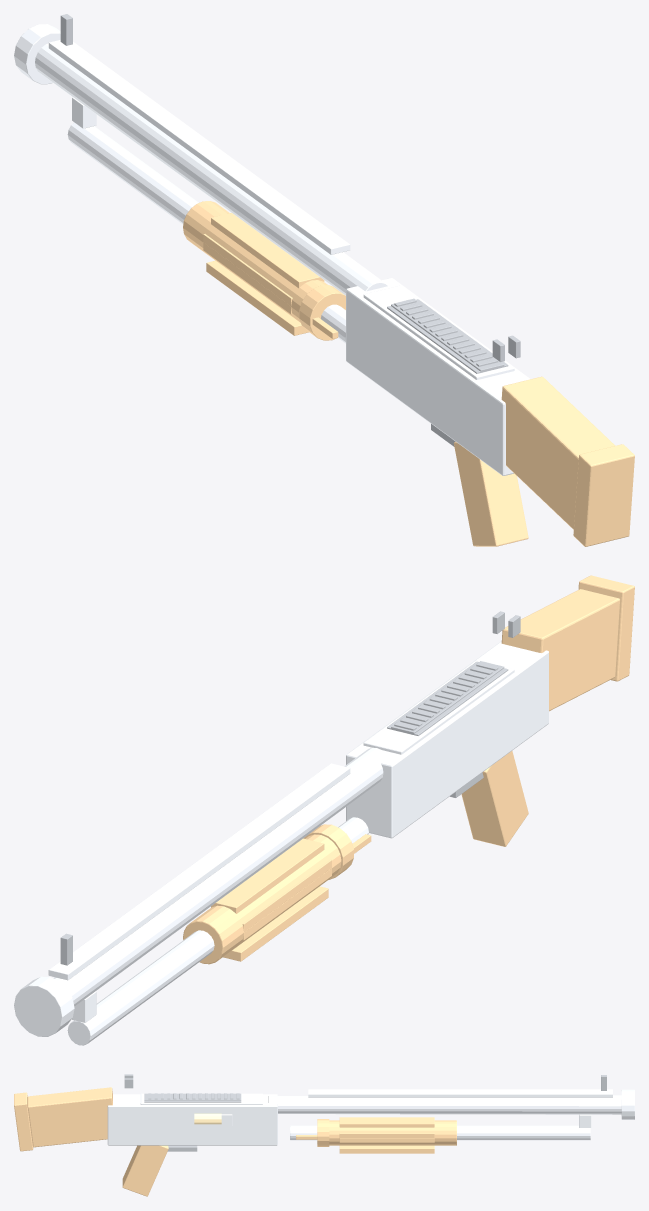
File: rem870.glb
The picture shows the model from 3 angles, top to bottom: view 1: azimuth 30°, elevation 25°; view 2: azimuth 150°, elevation 25°; view 3: azimuth 270°, elevation 25°; orthographic projection. The views are drawn at different scales.
Parts seen in each view (by area): view 1: BarrelAssembly, Receiver, PumpForend, StockGrip, StockGripPlate, Grip, TopRail, StockIrons; view 2: BarrelAssembly, Receiver, PumpForend, StockGrip, Grip, TopRail, StockGripPlate, StockIrons; view 3: BarrelAssembly, Receiver, PumpForend, StockGrip, Grip, TopRail, StockGripPlate, EjectShell, StockIrons, TriggerGuard.
Part boxes in pixels (x1=…): BarrelAssembly: x1=14, y1=24, x2=388, y2=343; Receiver: x1=346, y1=278, x2=530, y2=475; PumpForend: x1=183, y1=201, x2=345, y2=340; StockGrip: x1=501, y1=376, x2=615, y2=529; StockGripPlate: x1=573, y1=444, x2=634, y2=546; Grip: x1=453, y1=442, x2=528, y2=546; TopRail: x1=387, y1=298, x2=508, y2=373; StockIrons: x1=60, y1=14, x2=520, y2=361; BarrelAssembly: x1=14, y1=747, x2=388, y2=1045; Receiver: x1=346, y1=641, x2=548, y2=838; PumpForend: x1=183, y1=824, x2=371, y2=964; StockGrip: x1=501, y1=589, x2=620, y2=711; Grip: x1=461, y1=751, x2=528, y2=846; TopRail: x1=387, y1=661, x2=508, y2=735; StockGripPlate: x1=578, y1=575, x2=634, y2=681; StockIrons: x1=60, y1=611, x2=520, y2=965; BarrelAssembly: x1=268, y1=1089, x2=634, y2=1140; Receiver: x1=107, y1=1093, x2=277, y2=1145; PumpForend: x1=296, y1=1117, x2=456, y2=1153; StockGrip: x1=27, y1=1087, x2=112, y2=1147; Grip: x1=122, y1=1145, x2=168, y2=1196; TopRail: x1=144, y1=1093, x2=241, y2=1102; StockGripPlate: x1=14, y1=1092, x2=33, y2=1151; EjectShell: x1=194, y1=1113, x2=221, y2=1124; StockIrons: x1=124, y1=1074, x2=606, y2=1090; TriggerGuard: x1=167, y1=1145, x2=197, y2=1151.
Size of the model in its own units: 0.0596 by 0.2121 by 1.02.
